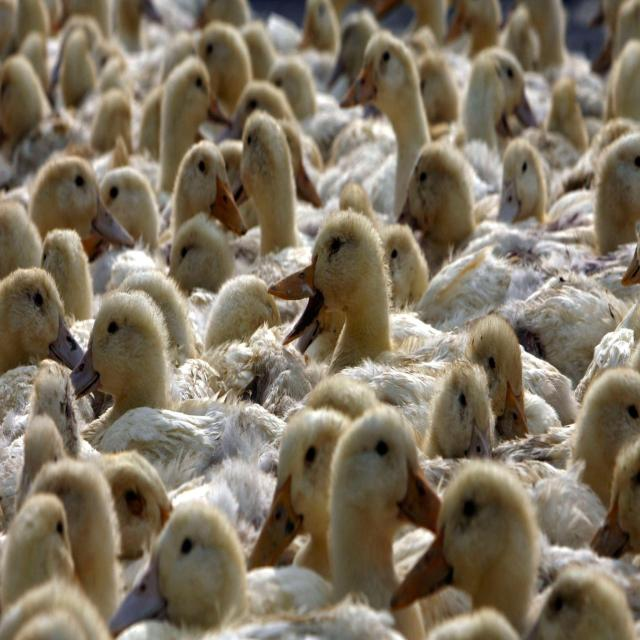Duck: (319, 394, 446, 614), (112, 506, 249, 635)
